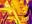Hotspot: (5, 0, 29, 17), (7, 0, 23, 23), (18, 16, 29, 23), (4, 0, 10, 8), (0, 8, 8, 11)
